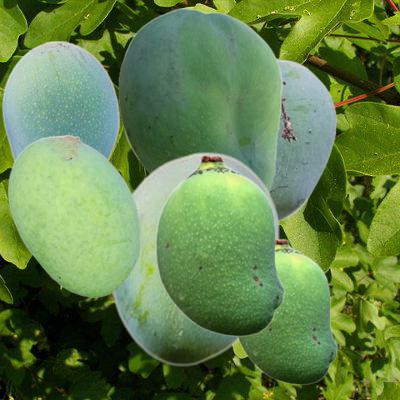green_mango: (109, 151, 279, 365), (118, 8, 281, 191), (155, 154, 284, 336), (8, 134, 139, 296), (237, 238, 337, 384), (1, 40, 119, 160), (271, 56, 336, 223)
